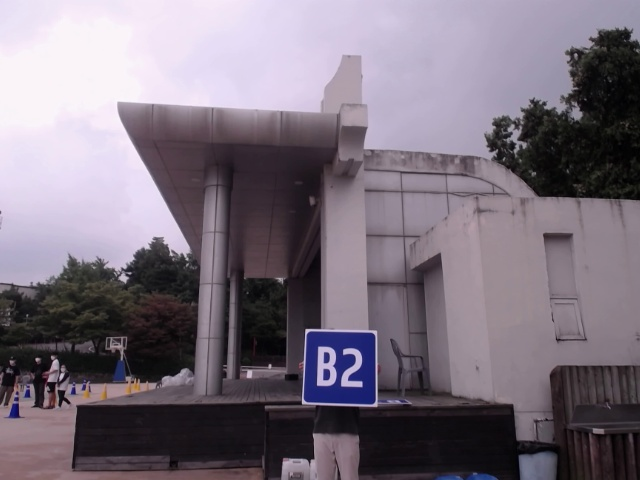delivery_b2: (304, 329, 377, 405)
